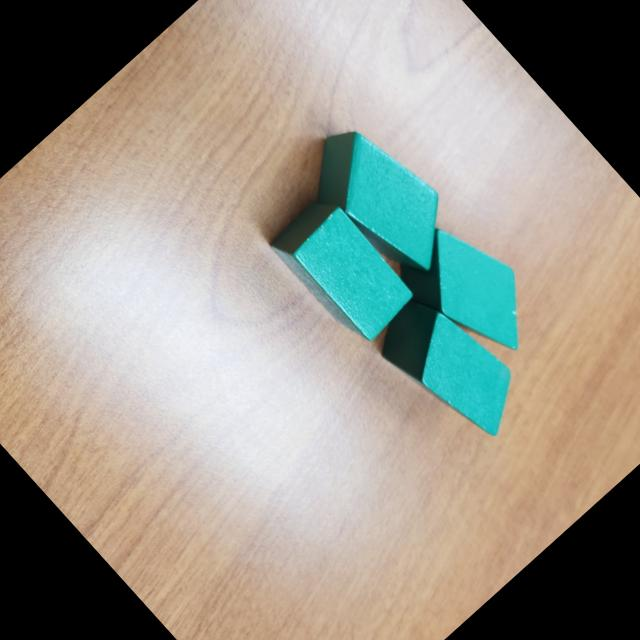green: (288, 104, 476, 297), (366, 281, 536, 456), (386, 206, 555, 380), (266, 187, 422, 349)
